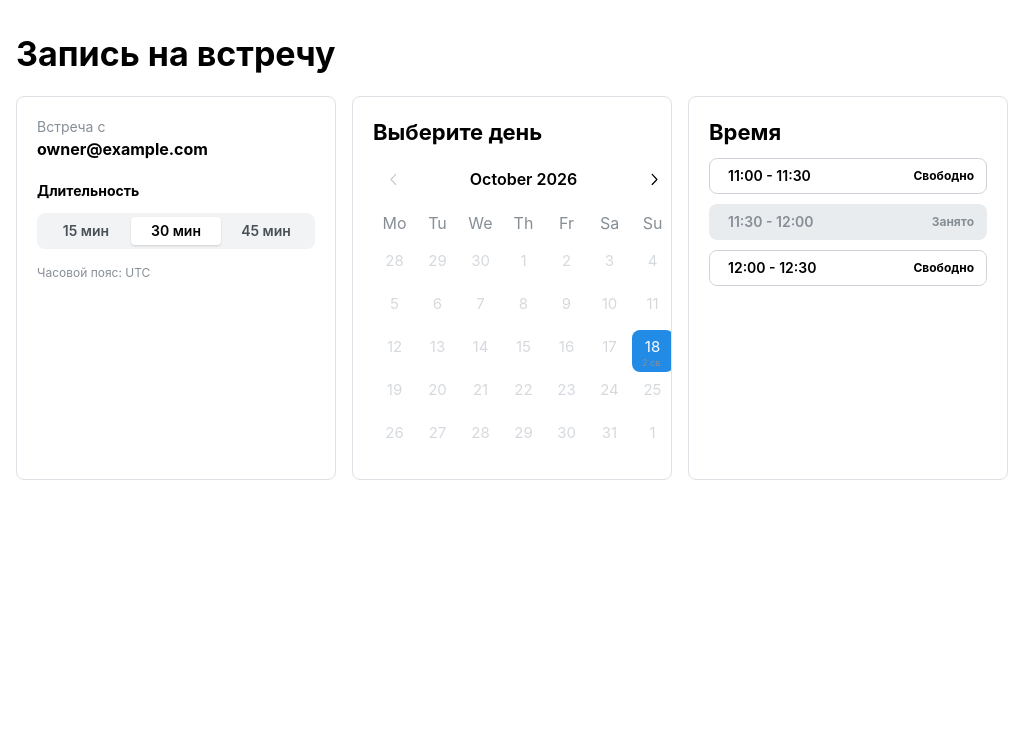
Test: гостевая страница: календарь владельца › пустое имя и кривая почта — ошибки полей, запрос не уходит
Click the button "11:00 - 11:30 Свободно": (769, 175) 709,158 -> 987,194
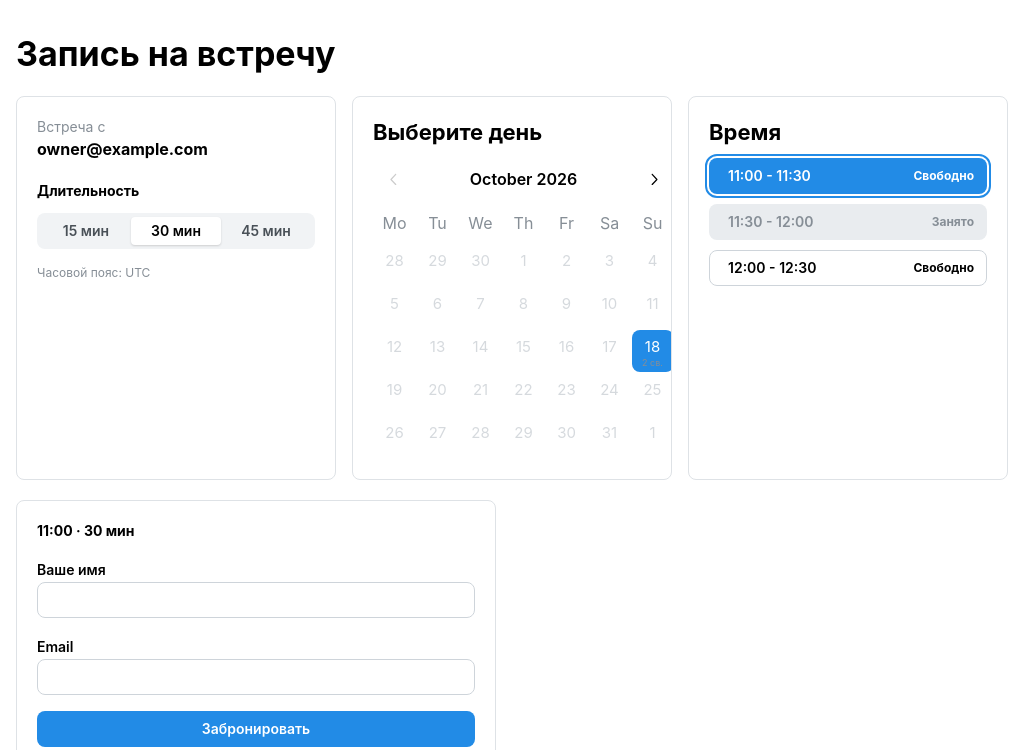
In the field labelled "Email": (256, 677) 37,659 -> 475,695, type "не почта"
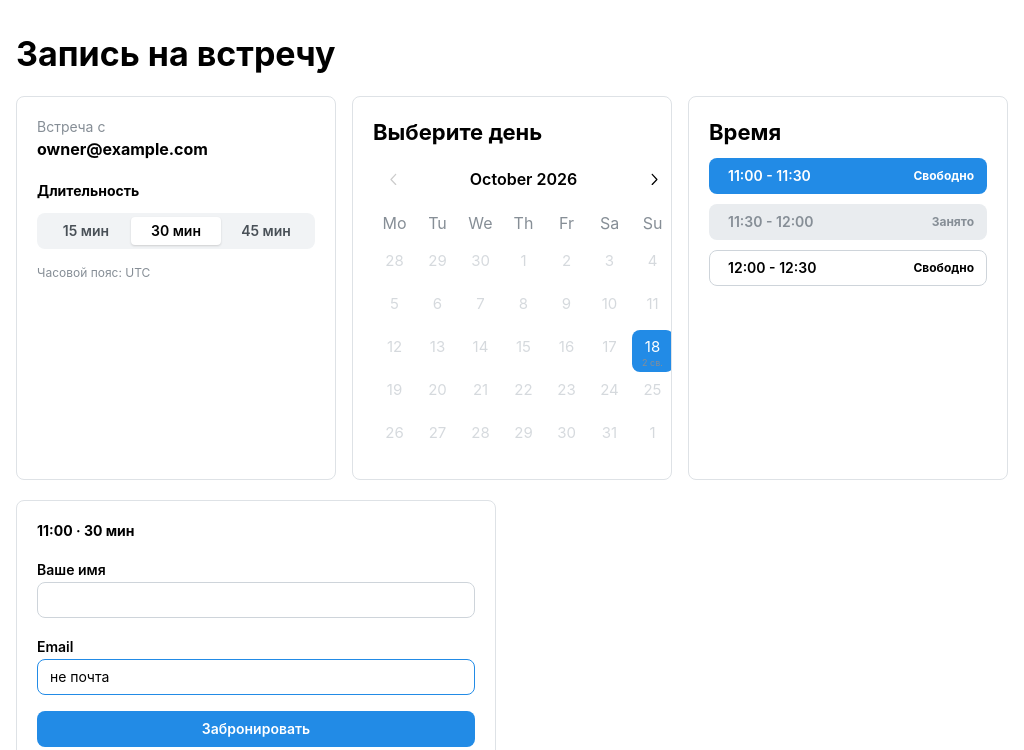
Click the button "Забронировать": (256, 729) 37,711 -> 475,747
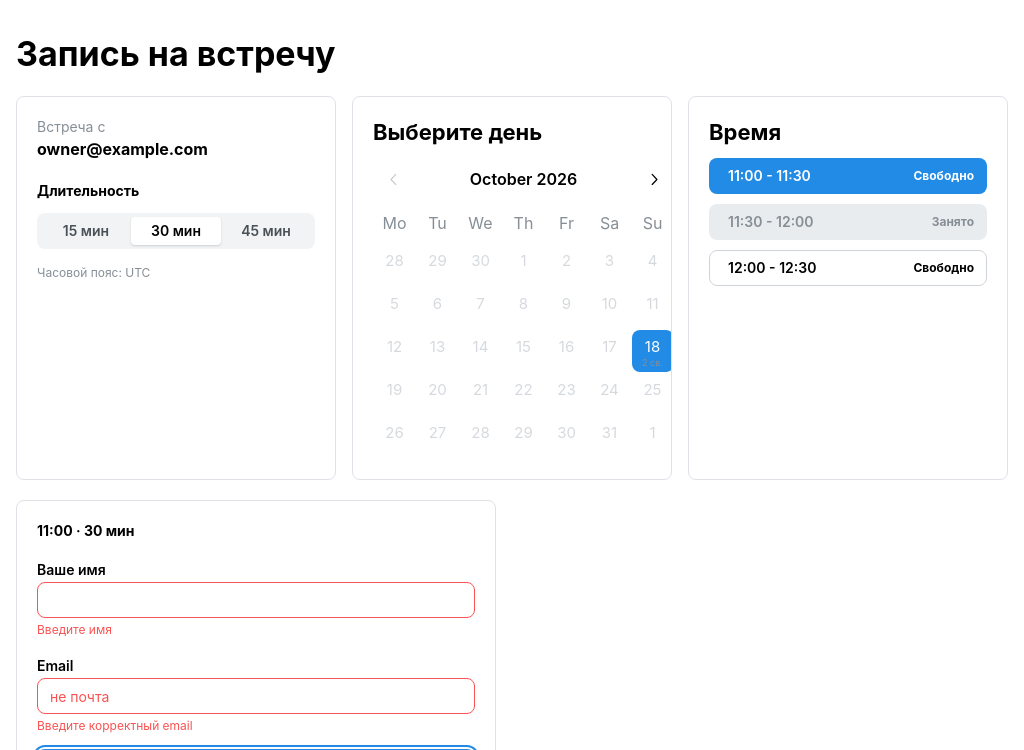
expect the text "Введите имя" is shown: met, box 37,622 -> 112,637
expect the text "Введите корректный email" is shown: met, box 37,718 -> 193,733
